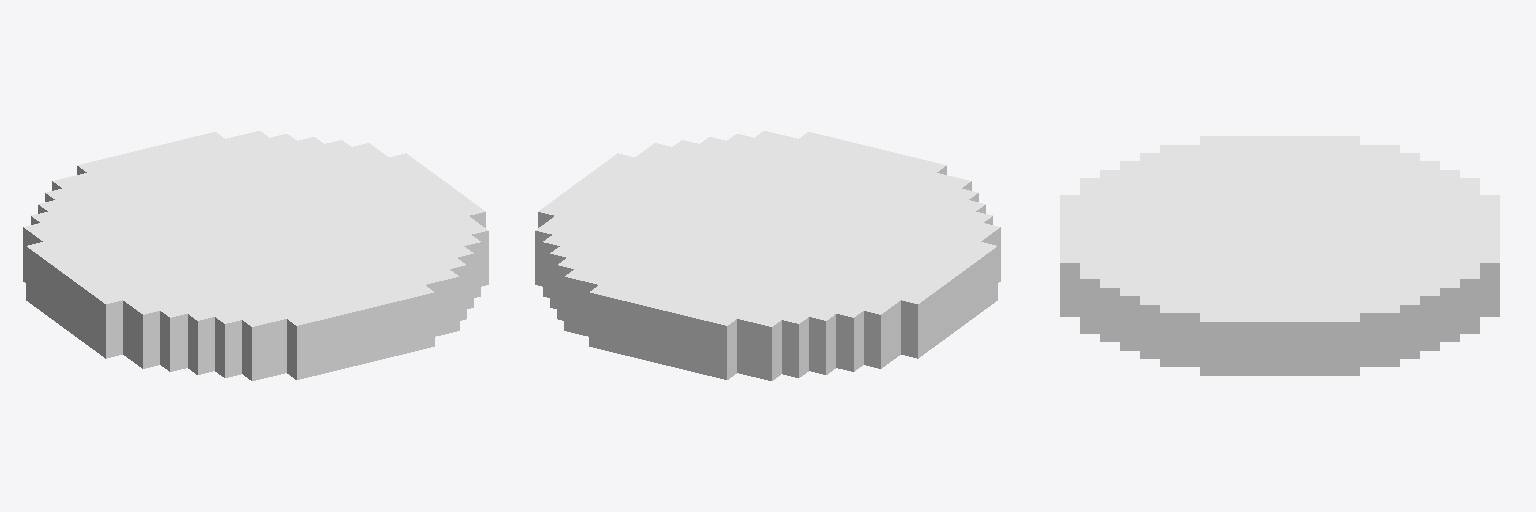
File: FrozenFoot.obj
The picture shows the model from 3 angles: view 1: azimuth 30°, elevation 25°; view 2: azimuth 150°, elevation 25°; view 3: azimuth 270°, elevation 25°; orthographic projection.
Visible parts, largest first — view 1: object 1; view 2: object 1; view 3: object 1.
Part boxes in pixels (x1,y1,x2,y2): object 1: (23, 131, 488, 380); object 1: (535, 131, 1000, 380); object 1: (1060, 136, 1499, 375).
Bounding box in the file's own units: 2.2 × 0.3 × 2.2.